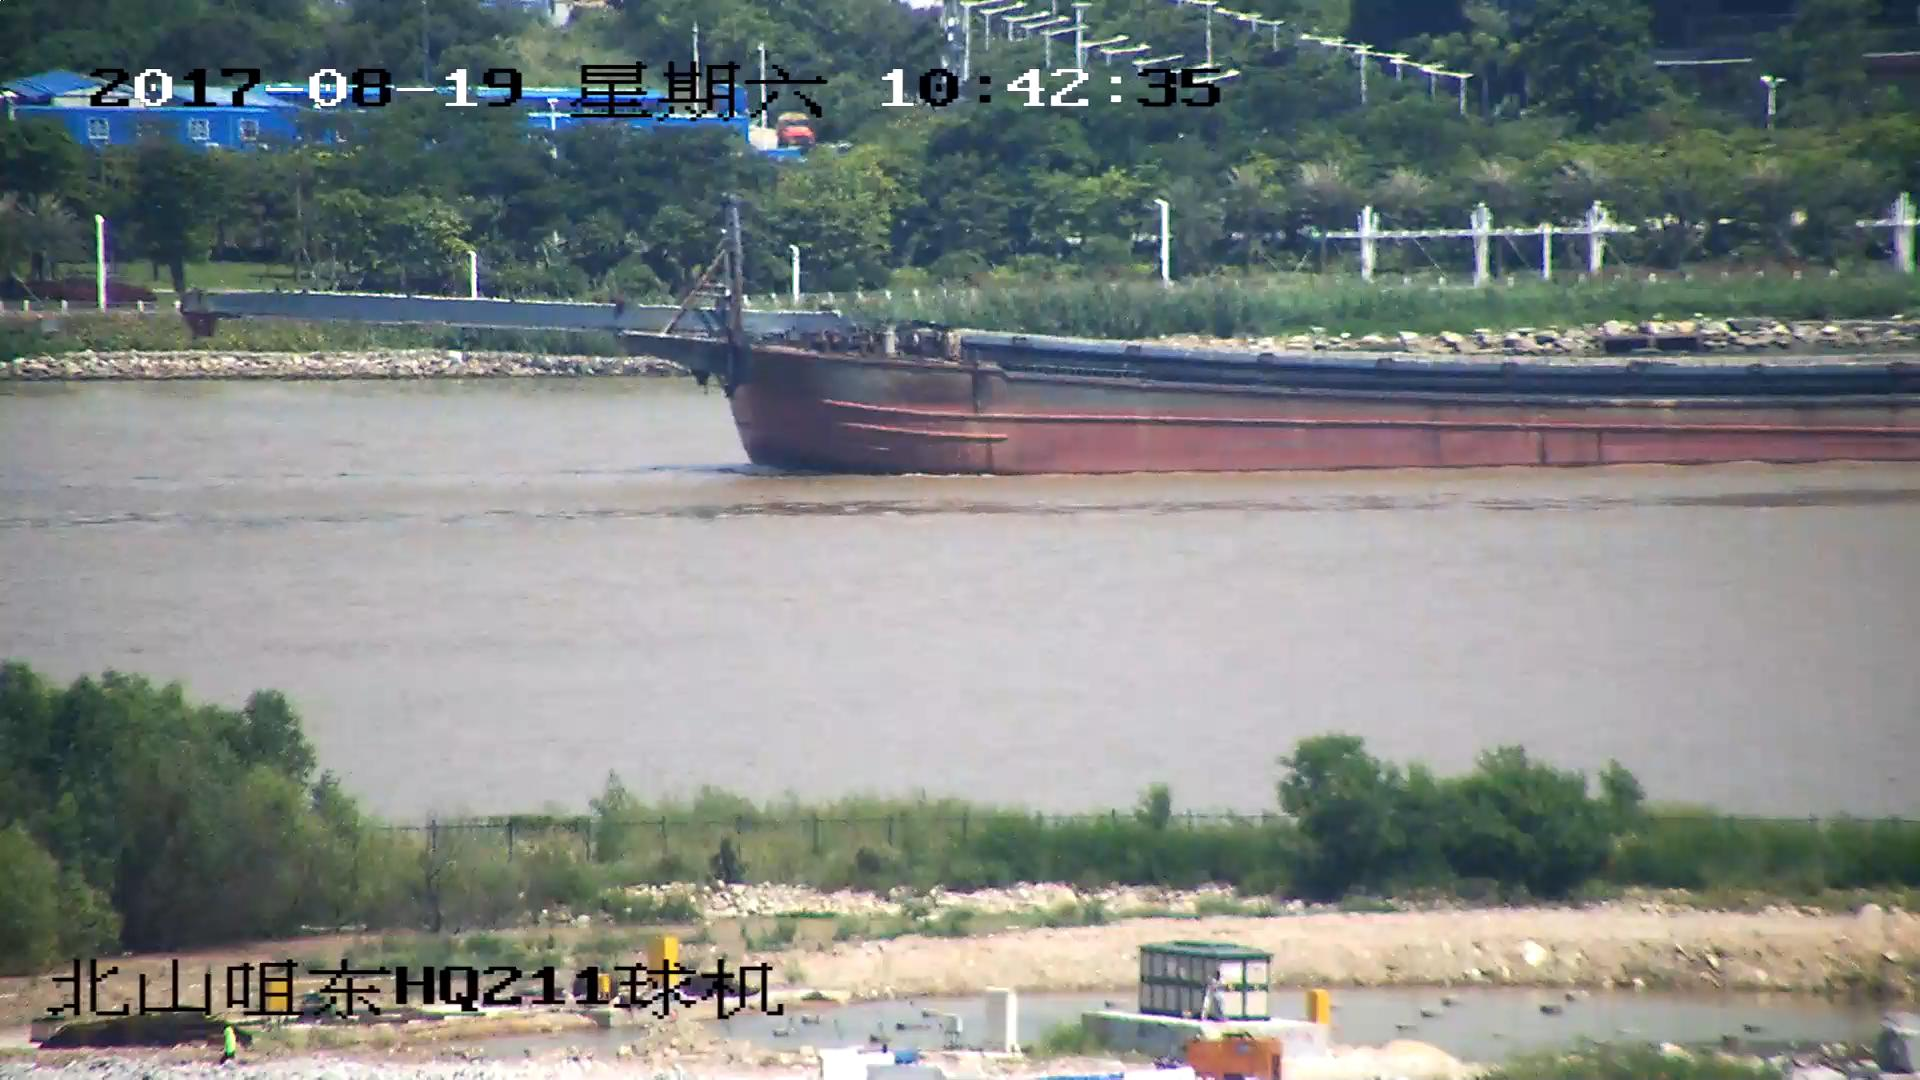bulk cargo carrier: (187, 197, 1920, 476)
